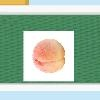half-ripe: (31, 38, 66, 75)
